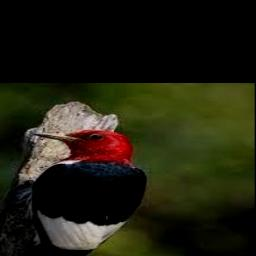Woodpecker: (14, 130, 151, 256)
